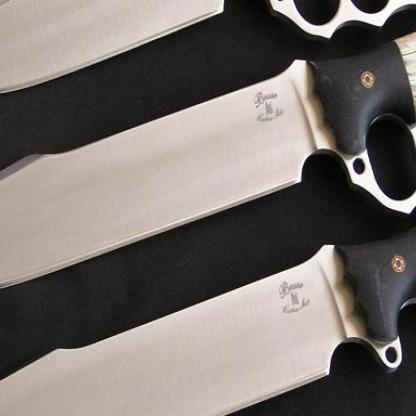knife: (0, 3, 415, 299), (0, 177, 415, 415), (0, 0, 415, 104)
